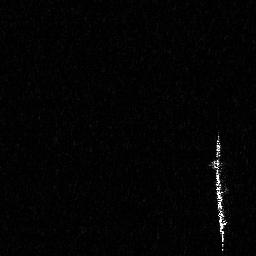ship: (209, 129, 230, 255)
